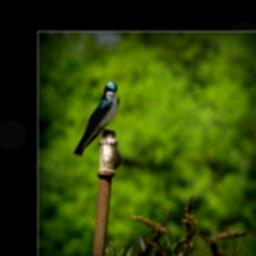Swallow: (72, 80, 119, 159)
